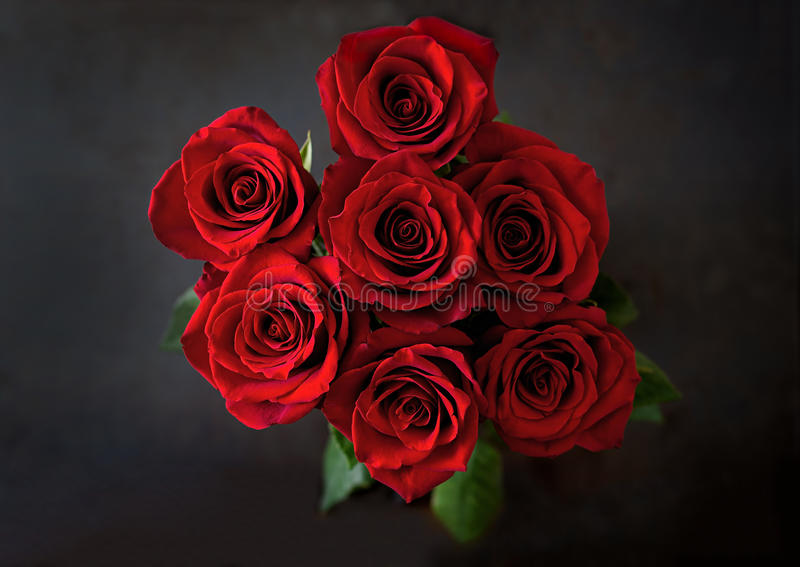RedRose: (309, 142, 492, 327), (301, 7, 506, 161), (457, 304, 639, 477), (175, 241, 348, 410), (316, 333, 490, 501), (144, 100, 318, 265), (475, 148, 615, 322)
